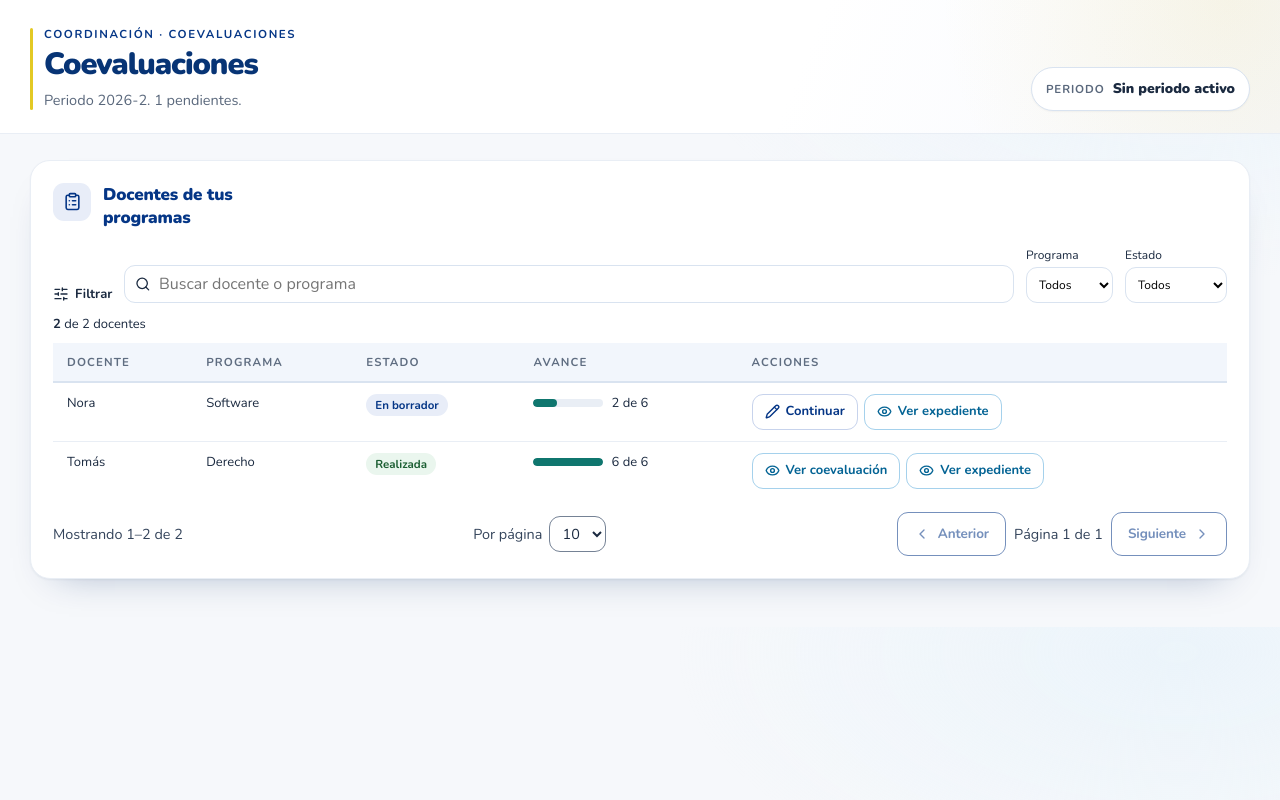
it: Coevaluaciones › filtra por nombre o programa y limpia los filtros
Expected: the link with aria-label "Continuar · Nora" is shown, [752,394,858,430]
Type "derecho" into the search field at x=580, y=284, box [157,266,1003,302]
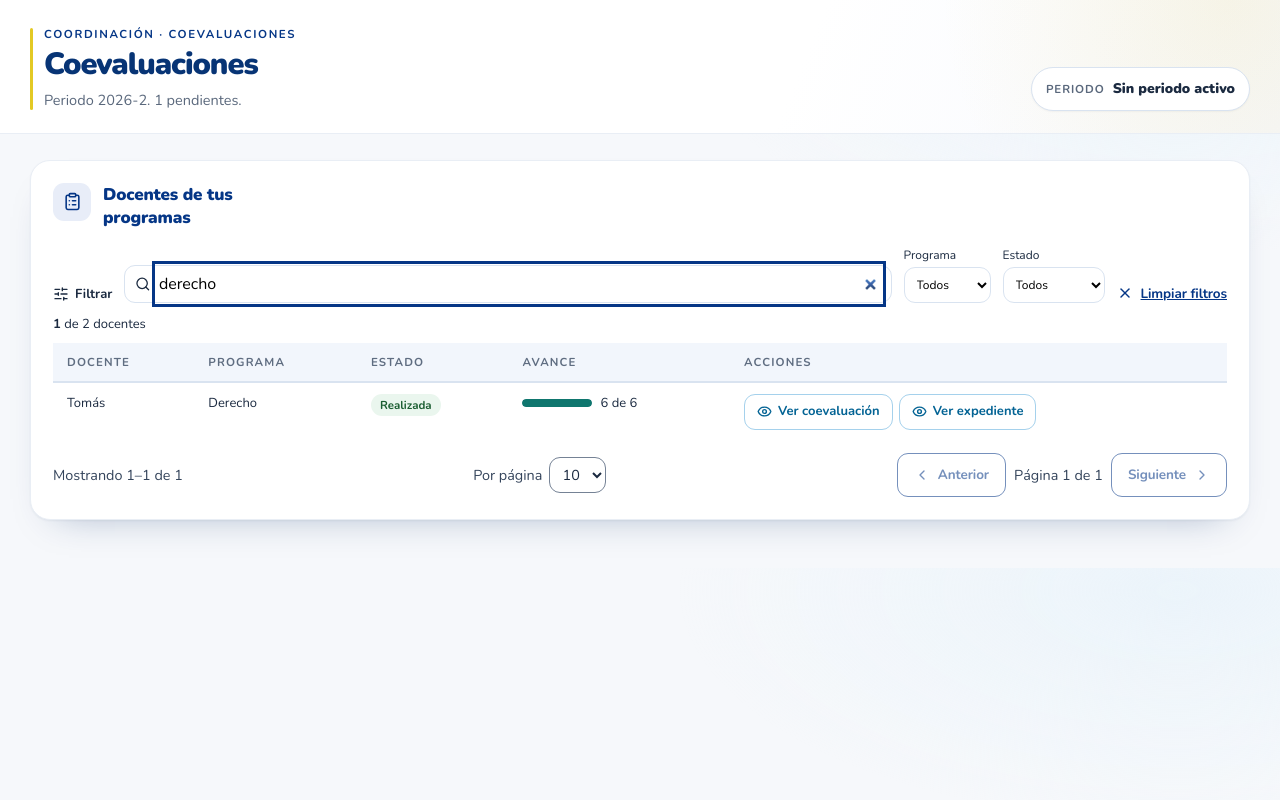
Expected: the link with aria-label "Ver coevaluación · Tomás" is shown, [744,394,893,430]
Click the button "Limpiar filtros" at x=1172, y=293, box [1116,284,1227,303]
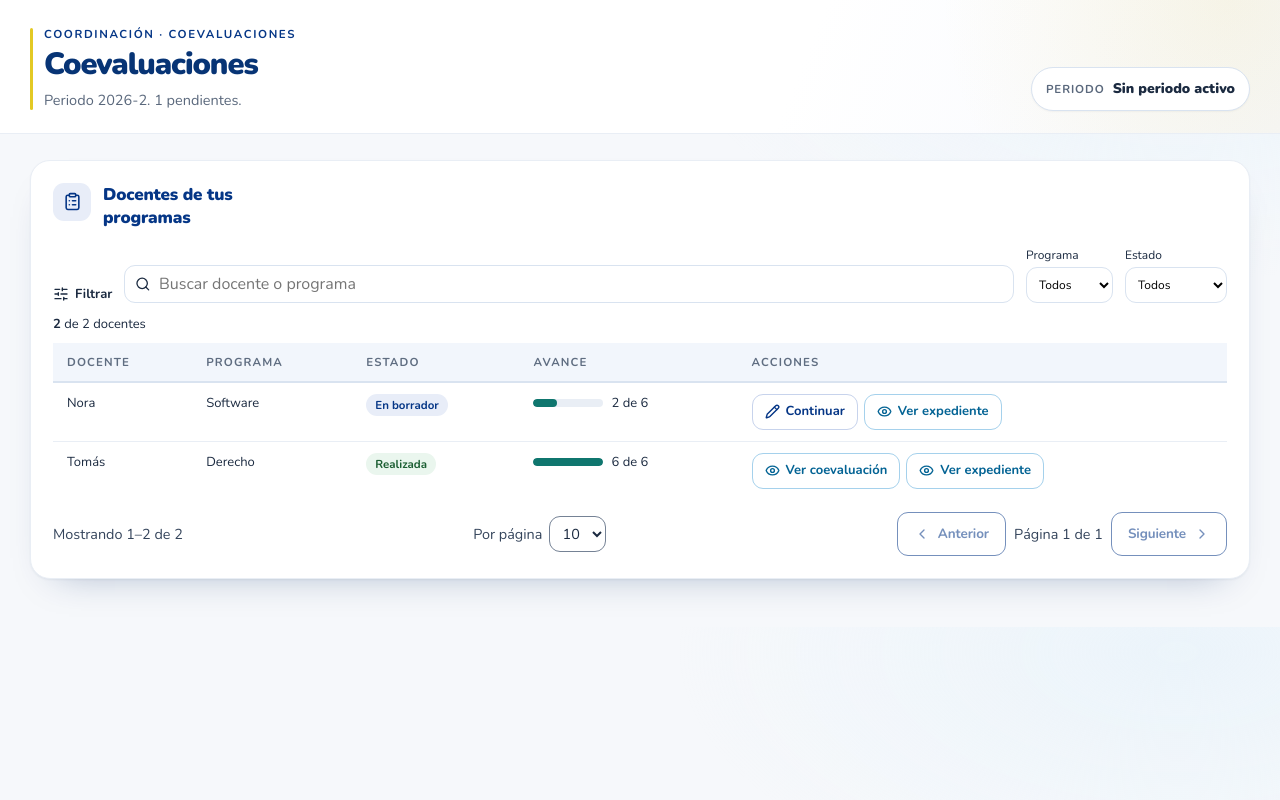
Expected: the link with aria-label "Ver coevaluación · Tomás" is shown, [752,453,900,489]
Expected: the link with aria-label "Continuar · Nora" is shown, [752,394,858,430]
